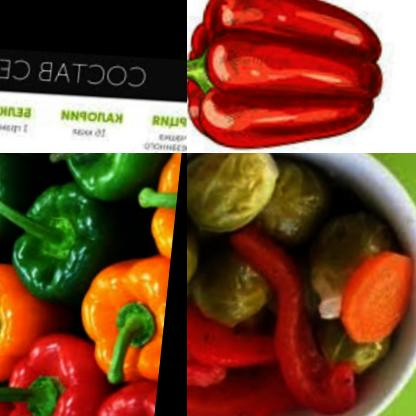bell pepper: (187, 0, 401, 153), (215, 221, 378, 416), (4, 175, 143, 300), (74, 252, 173, 385), (0, 255, 88, 384), (0, 322, 118, 416), (187, 364, 328, 416), (122, 153, 182, 257), (43, 153, 183, 195), (0, 153, 42, 246), (74, 373, 163, 416), (240, 404, 331, 416)
brus capusta: (295, 192, 394, 310), (187, 245, 290, 347), (187, 153, 278, 242), (264, 161, 337, 253), (319, 312, 384, 369), (187, 214, 208, 317)
carrot: (343, 242, 416, 353)
